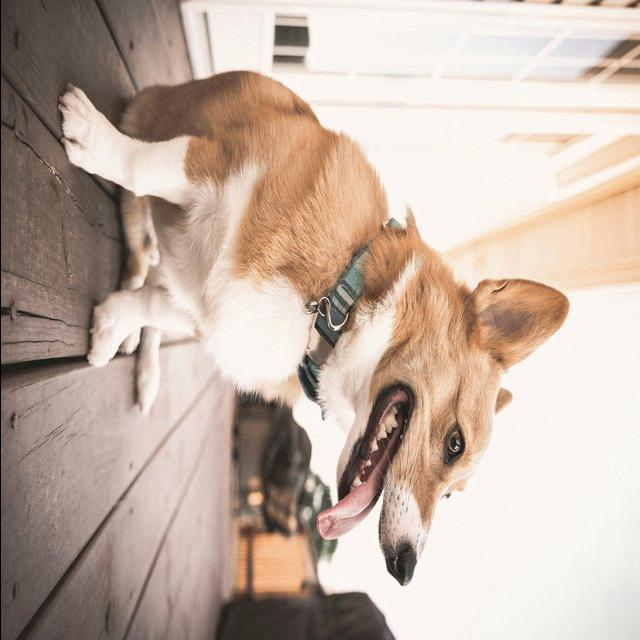corgi: (57, 68, 571, 586)
